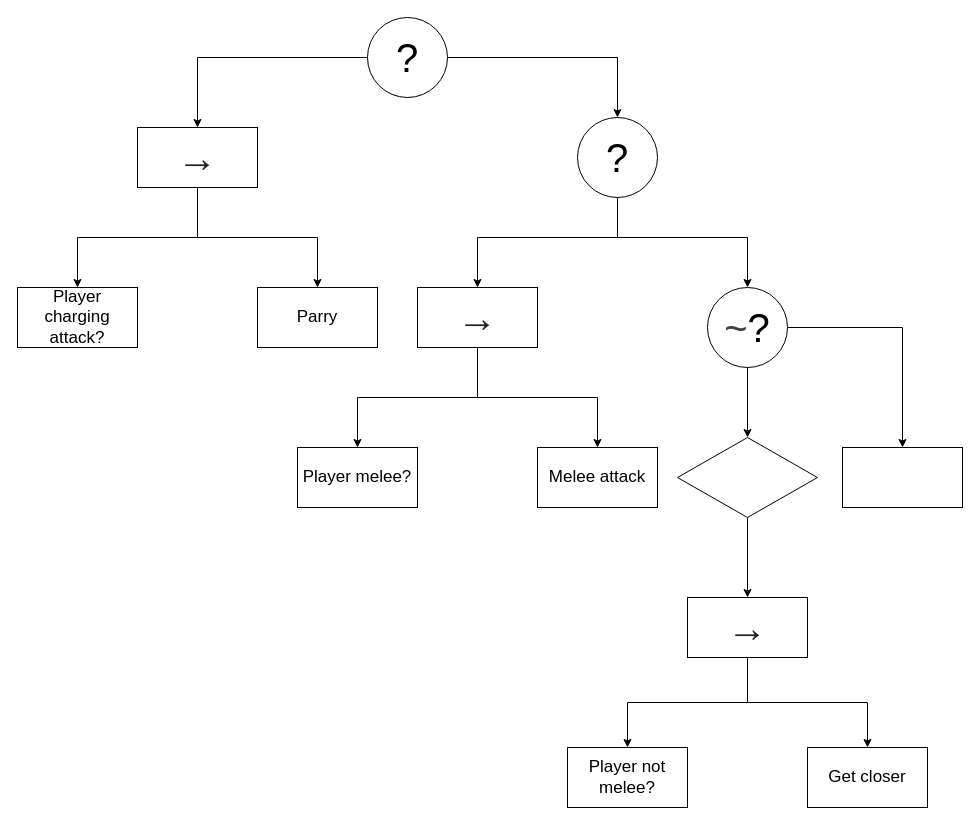
The diagram is 980 pixels wide and 825 high, and some of its shapes have lost their labels. The box of each missing label's shape, as (x1, y1, x2, y2) in pixels:
Ranged attack: (842, 446, 962, 508)
Until fail: (676, 436, 818, 518)
